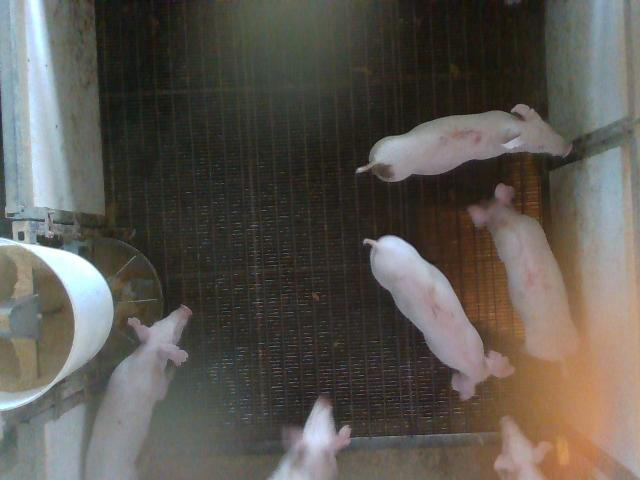pig-4: (469, 184, 579, 361)
pig-5: (358, 104, 571, 181)
